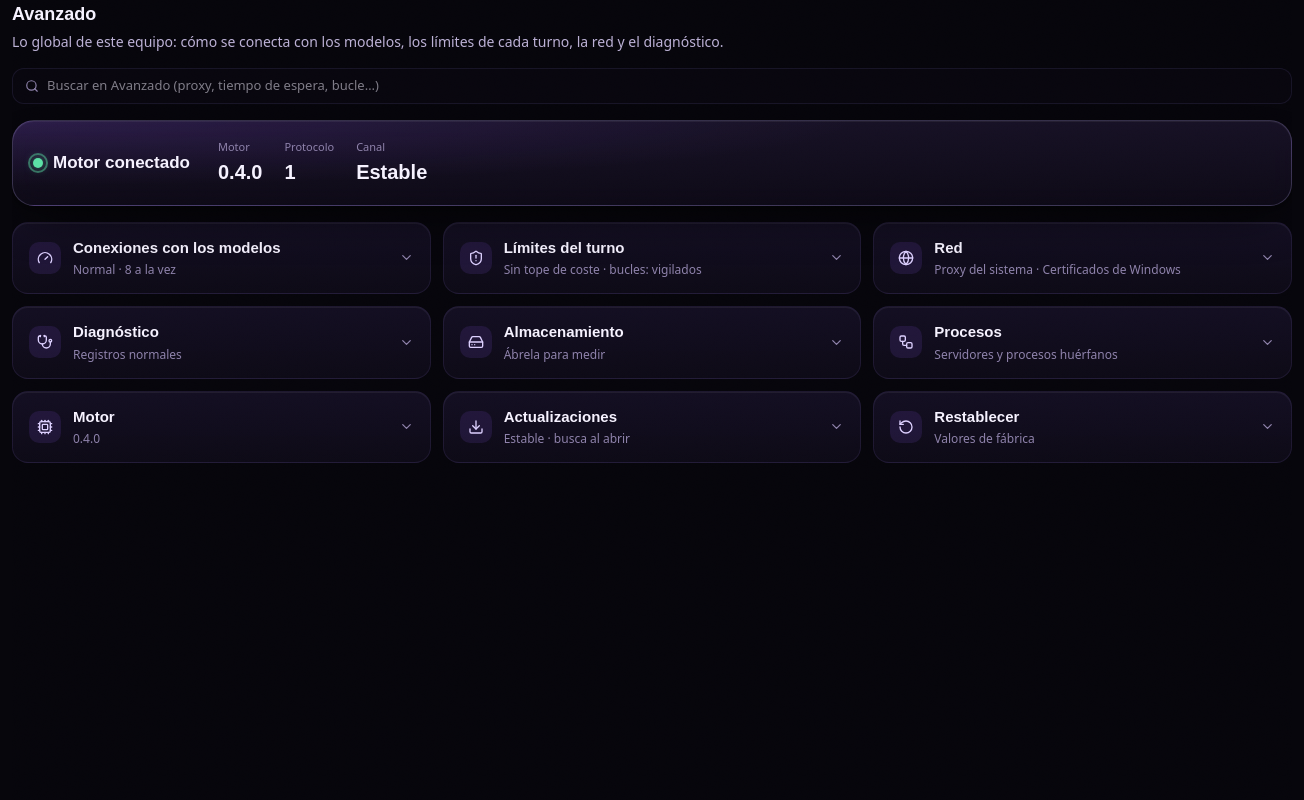
Diagnóstico: registros detallados por 24 h (#96)
Click the button "Diagnóstico Registros normales" at [45, 342], box [13, 307, 430, 378]
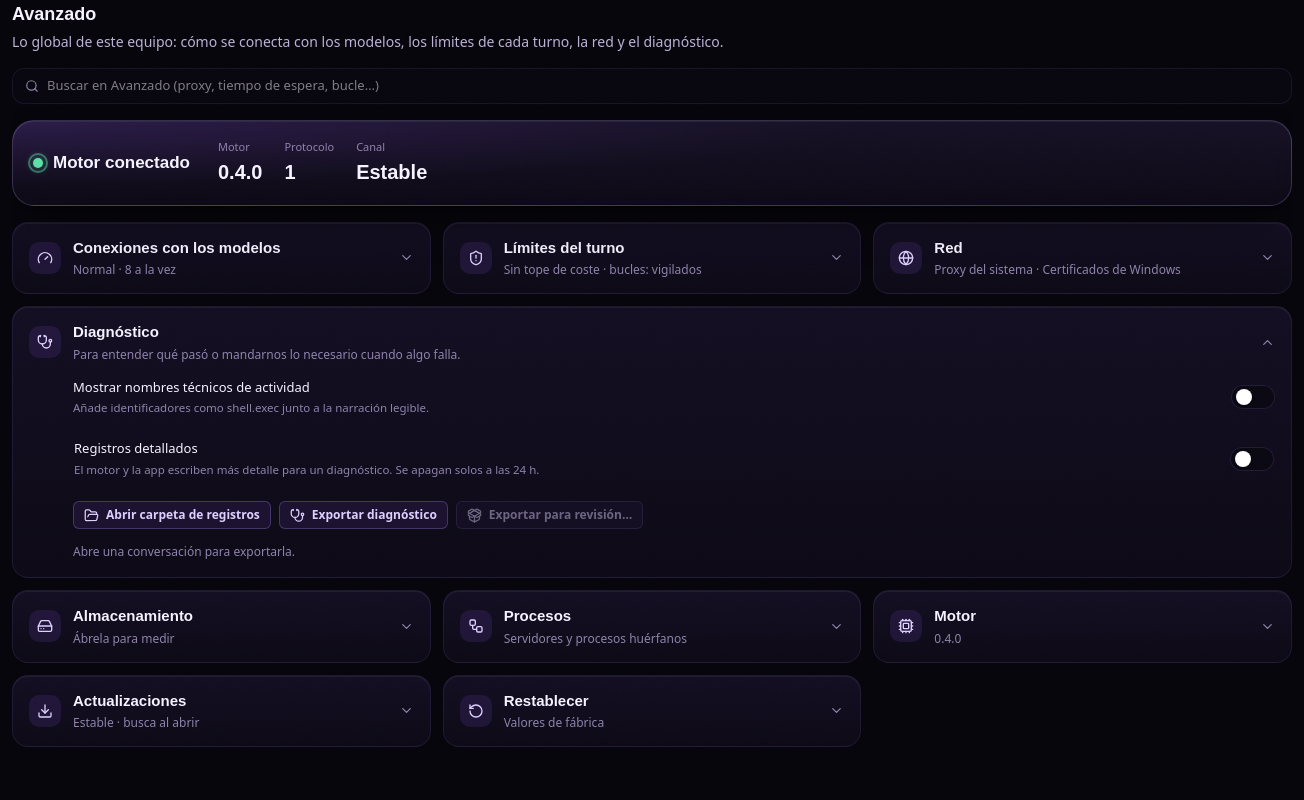
Click the switch named "Registros detallados" at [1252, 459], box [1230, 447, 1274, 471]
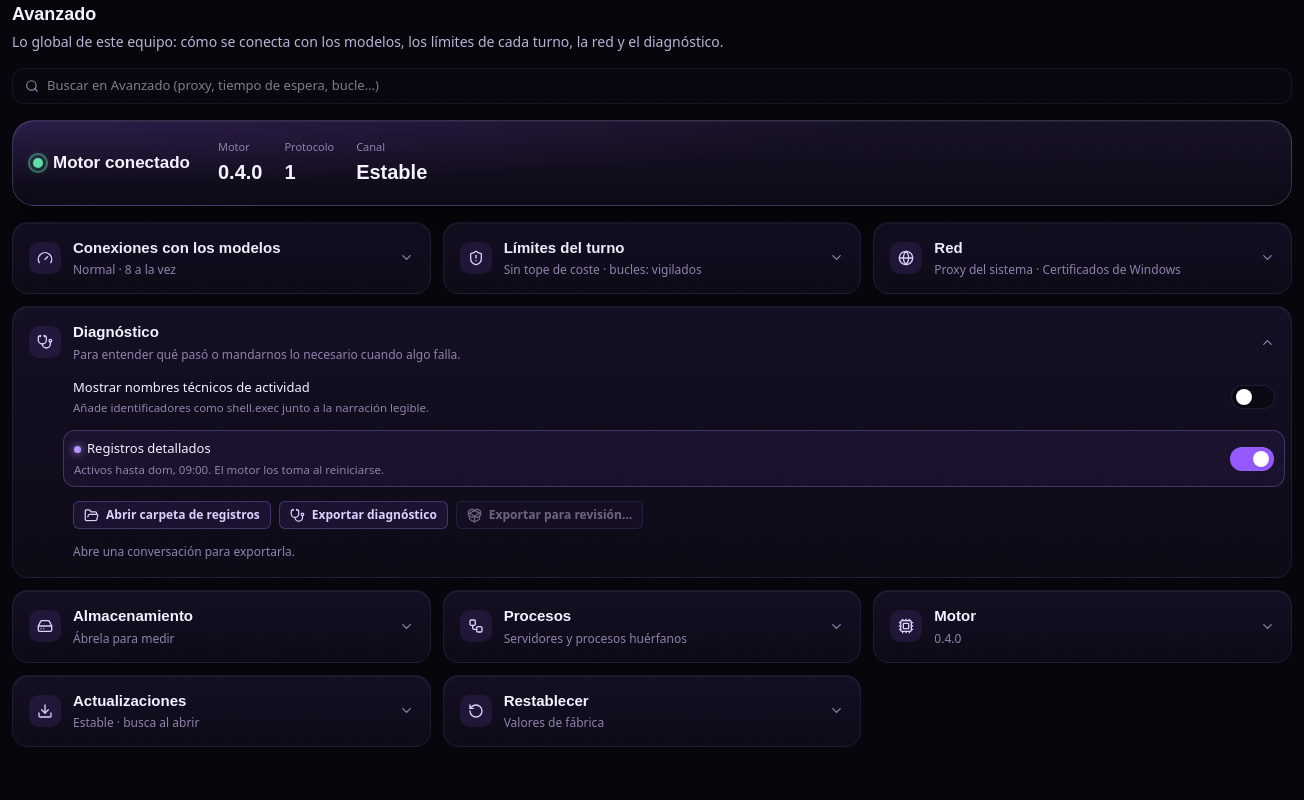
Check: the element with test id "detailed-logs" shows "Activos hasta", box [74, 462, 384, 477]
